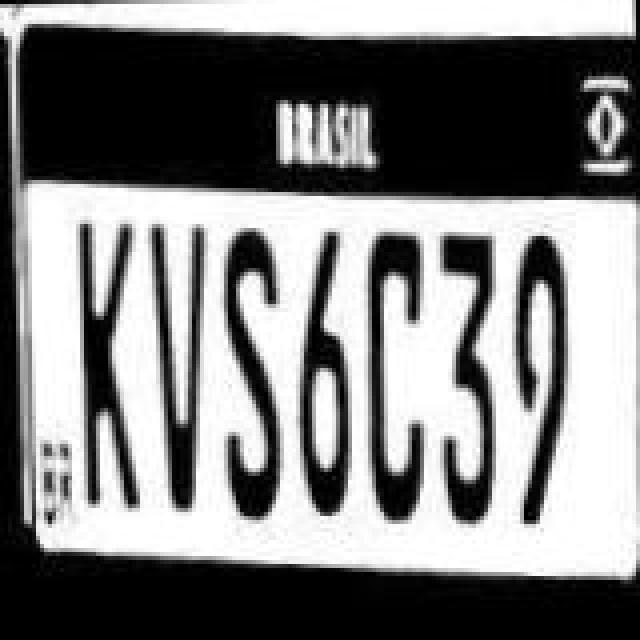3: (430, 228, 498, 532)
6: (292, 224, 352, 520)
9: (502, 216, 570, 532)
C: (356, 232, 436, 532)
K: (68, 210, 144, 506)
S: (212, 218, 288, 518)
V: (144, 224, 212, 512)
